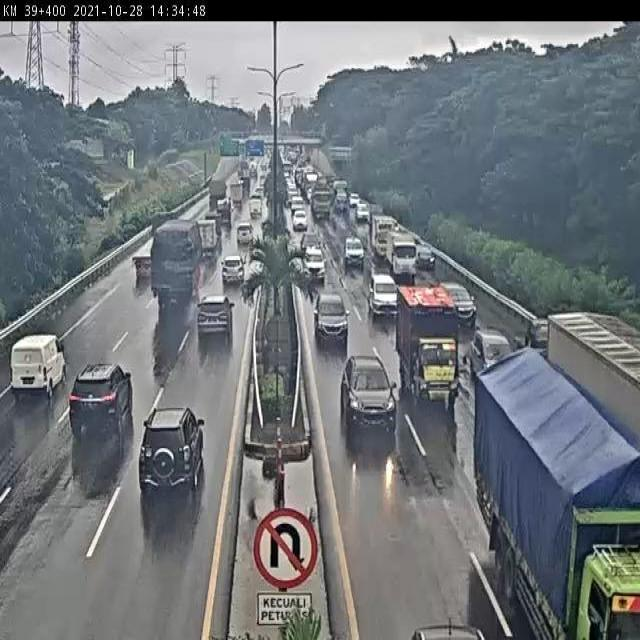big truck: (474, 345, 640, 640), (547, 313, 640, 444), (152, 215, 203, 306)
car: (136, 402, 207, 502), (65, 359, 135, 445), (9, 333, 65, 415), (340, 356, 393, 427), (312, 289, 352, 347), (194, 292, 233, 351), (410, 617, 485, 640), (360, 263, 394, 312), (493, 296, 531, 335), (462, 319, 497, 361), (437, 270, 467, 318), (218, 252, 246, 288), (303, 243, 329, 281), (231, 223, 257, 256), (340, 235, 365, 269), (412, 243, 435, 273), (289, 205, 311, 236)
small truck: (400, 289, 460, 400), (133, 208, 177, 279), (385, 228, 422, 283), (367, 209, 401, 252), (195, 216, 221, 255)
